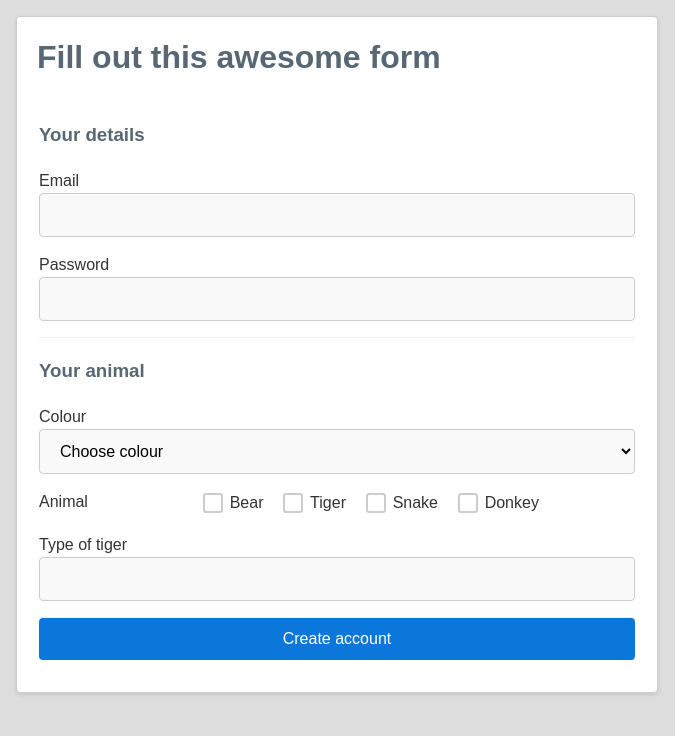
Test: App Component › shows validation error for Type of tiger if Tiger is selected but Type of tiger is empty
Note: Fill out the form with Tiger selected but without Type of tiger
Type "test@example.com" into the field labelled "Email" at (337, 215), box [39,193,635,237]
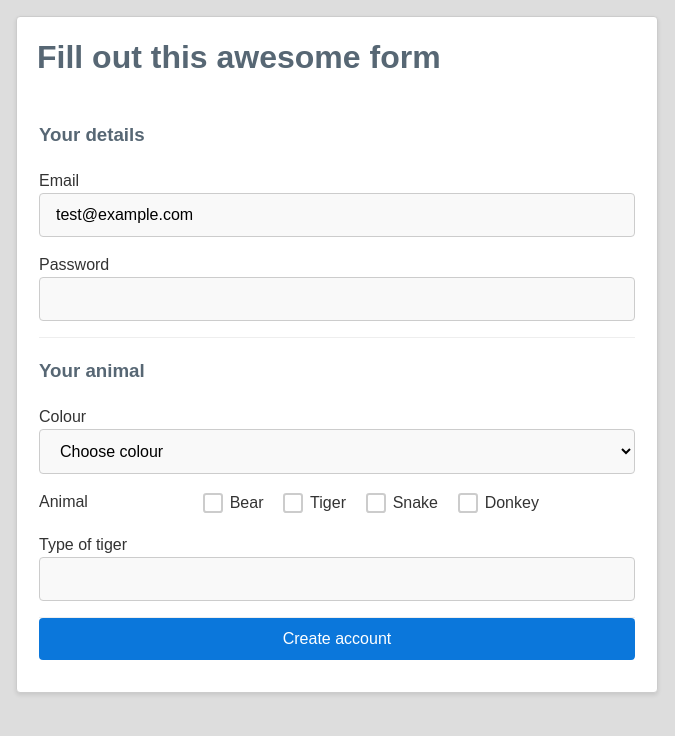
Type "password123" into the password field labelled "Password" at (337, 300), box [39,278,635,322]
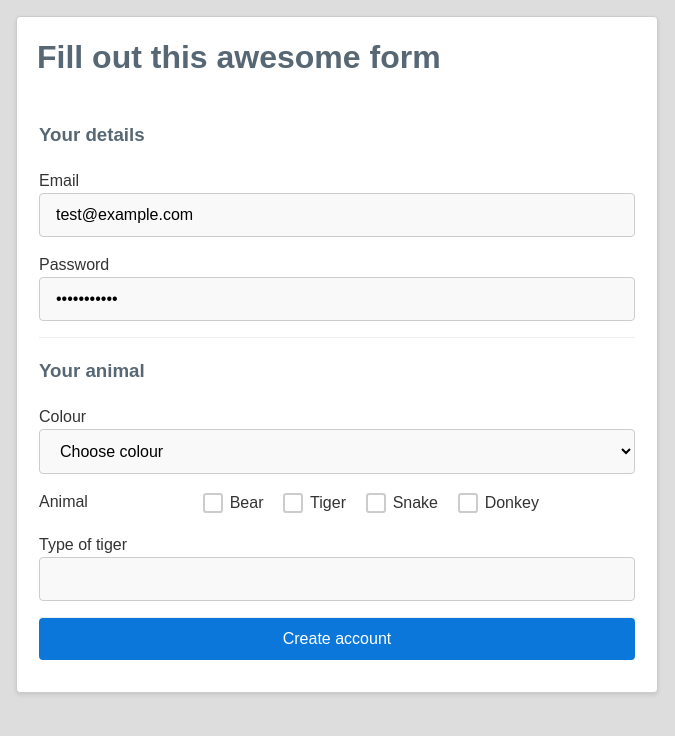
Select "Blue" in the dropdown labelled "Colour" at (337, 451), box [39,429,635,474]
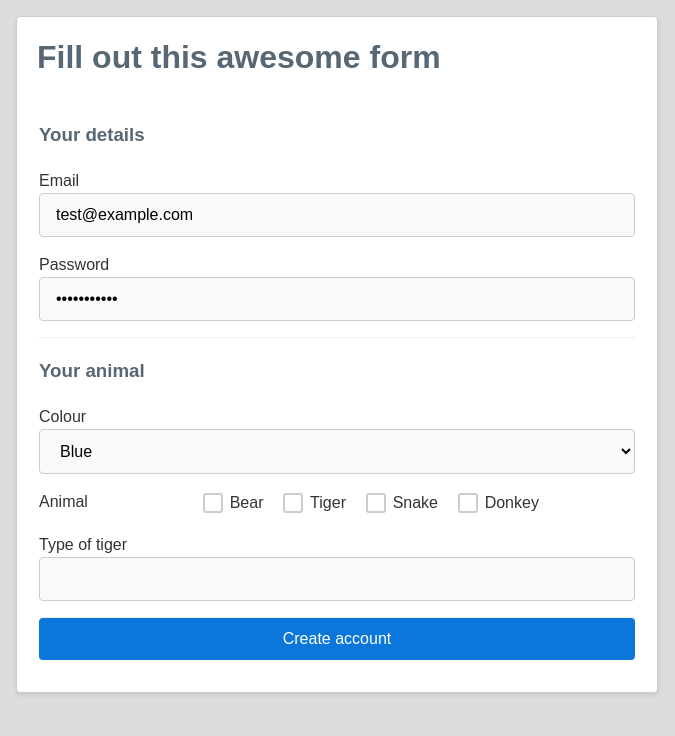
Click the checkbox labelled "Bear" at (213, 503), box [203,493,223,513]
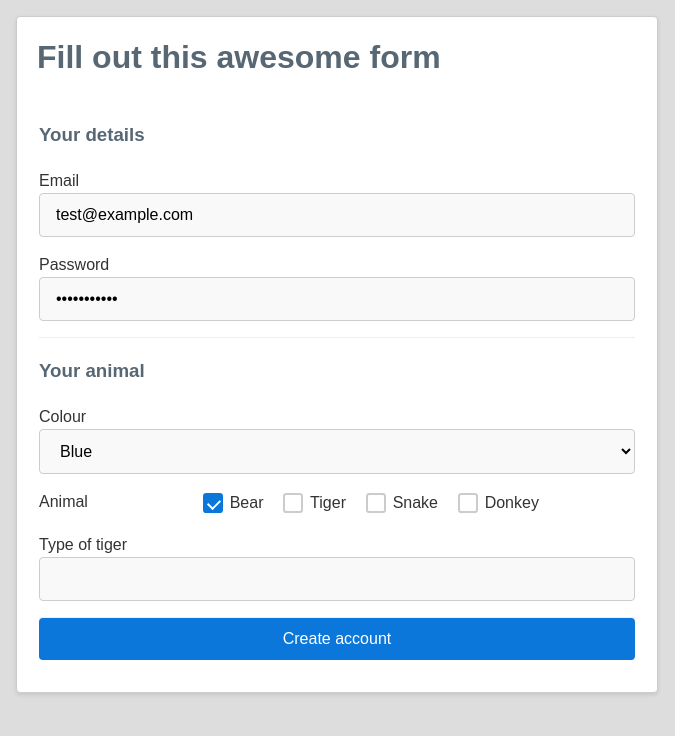
Click the checkbox labelled "Tiger" at (294, 503), box [284,493,304,513]
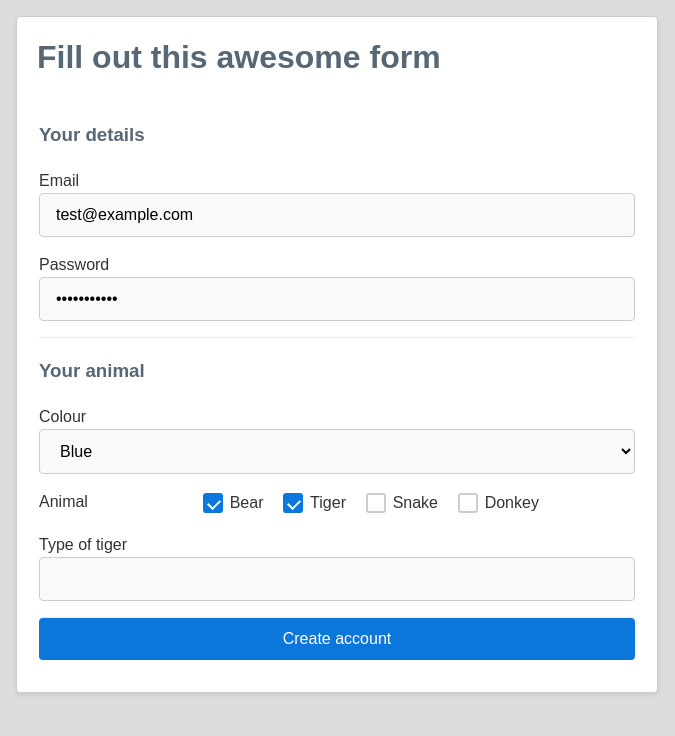
Click the button "Create account" at (337, 638), box [39,618,635,660]
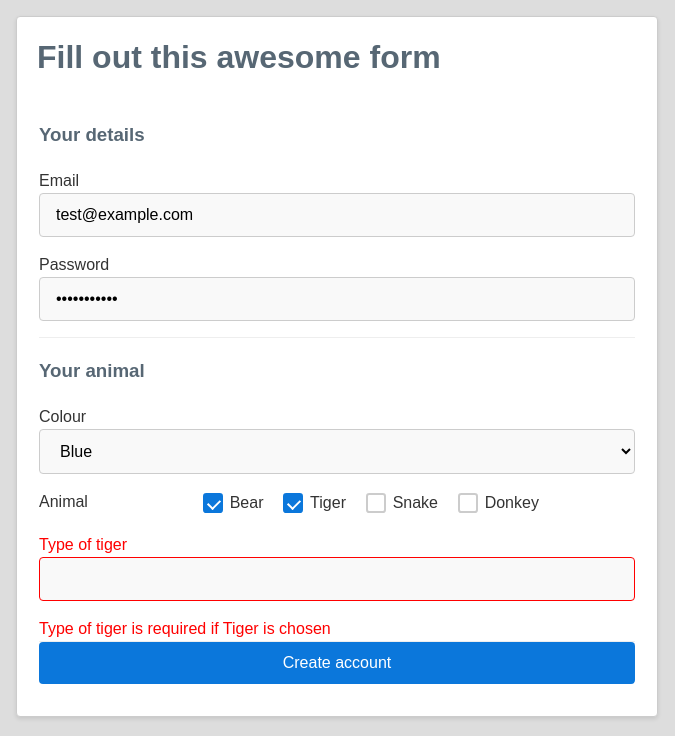
Expected: the text "Type of tiger is required if Tiger is chosen" is shown, [39,620,331,636]
